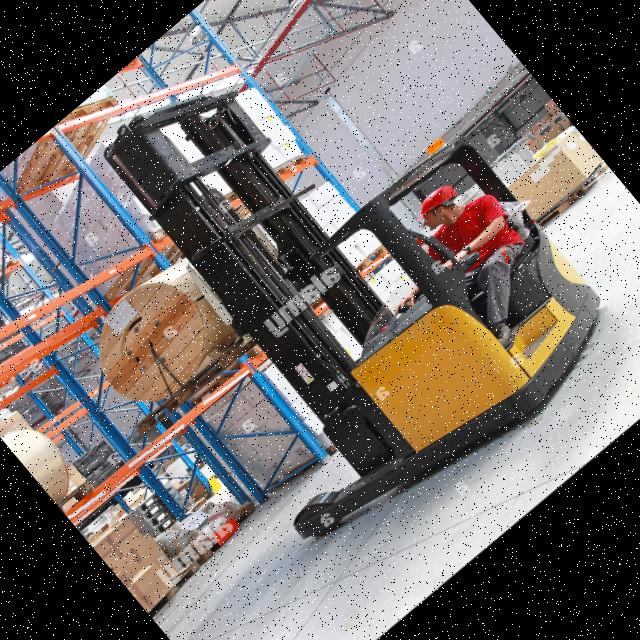Person: (388, 162, 576, 358)
